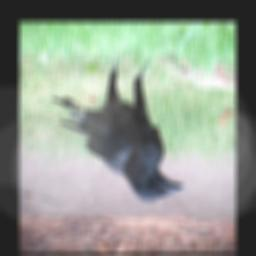Crow: (51, 57, 186, 202)
